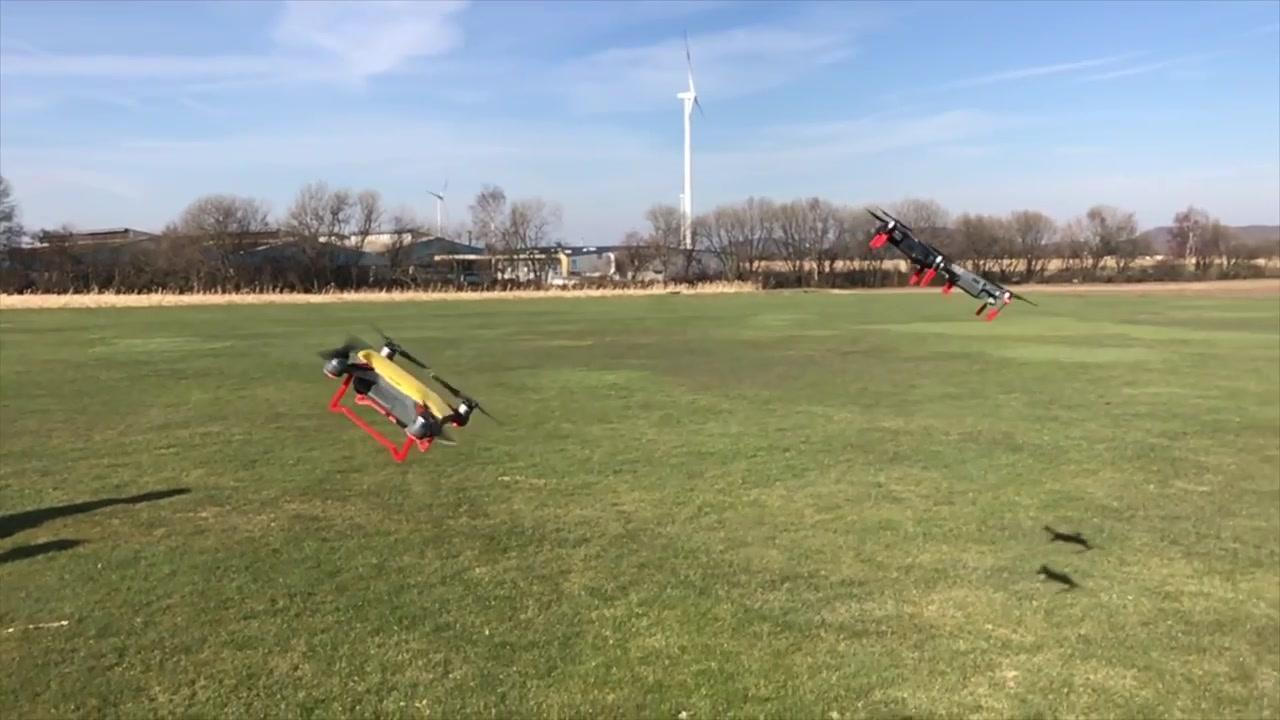UAV: (317, 330, 501, 465), (864, 206, 954, 287), (930, 262, 1040, 323)
